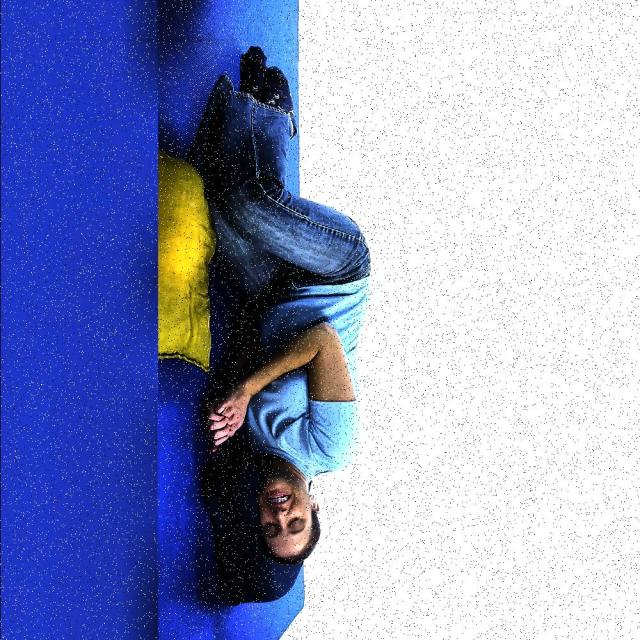Not_Supine: (191, 48, 370, 562)
